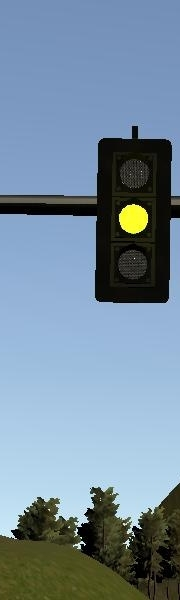Yellow: (94, 135, 170, 306)
